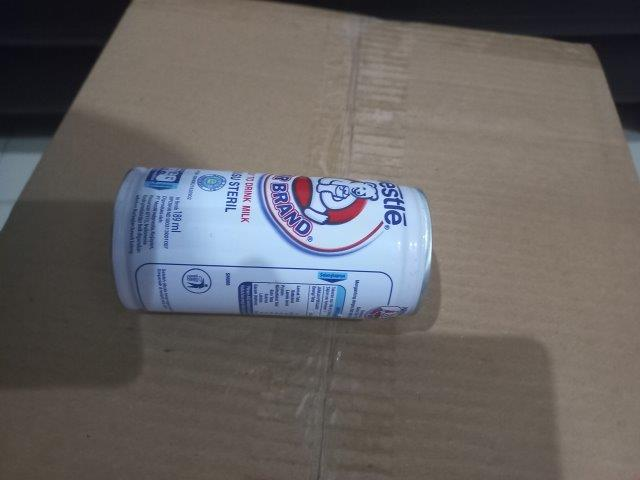kaleng: (111, 166, 434, 326)
kardus: (3, 2, 640, 480)
